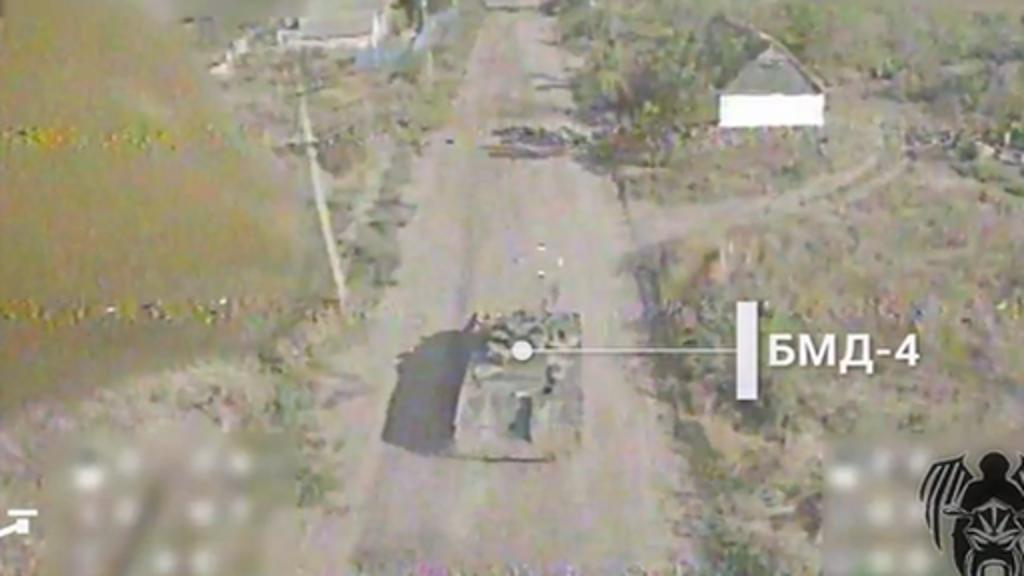APC-IFV: (446, 300, 588, 466)
